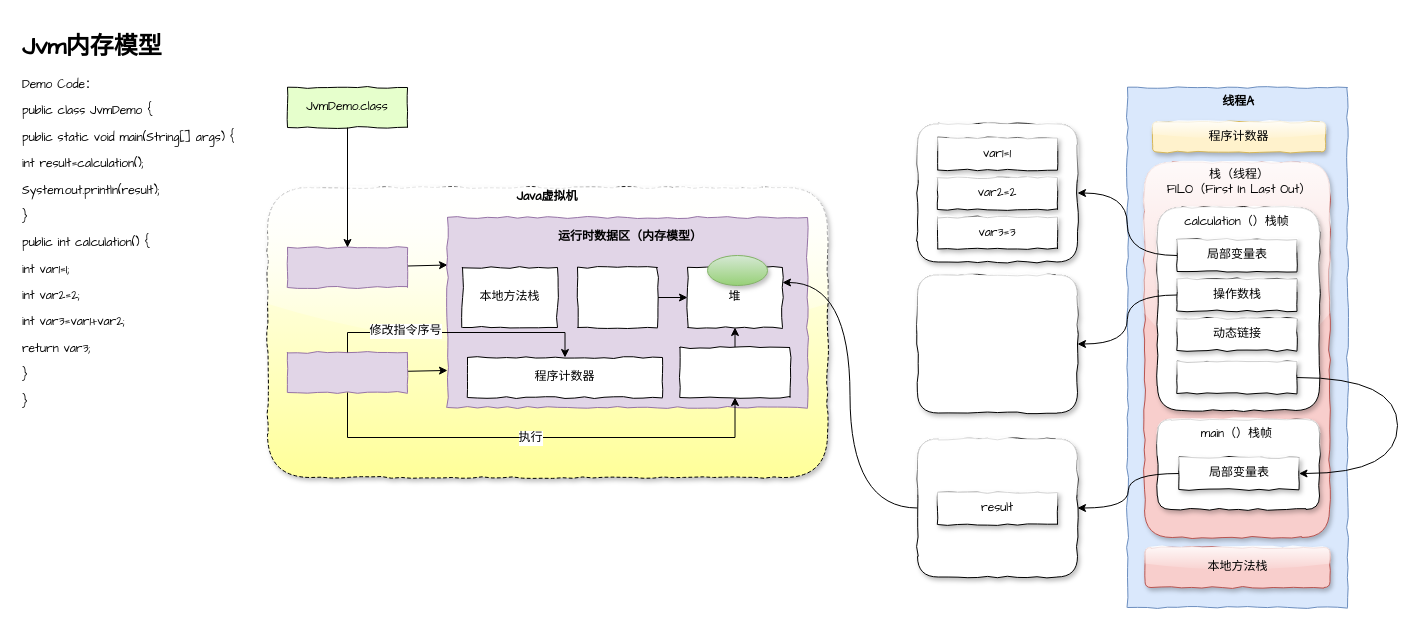
This 1415x625 diagram has some shape labels left out. The centre of each missing label's shape, as x and y in pixels:
"JvmDemo" belongs at (738,271).
"字节码执行引擎" belongs at (347,372).
"方法出口" belongs at (1237,378).
"方法区 （元空间） 常量+静态变量+类信息" belongs at (734,372).
"栈（线程）" belongs at (617,297).
"类装载子系统" belongs at (347,267).
